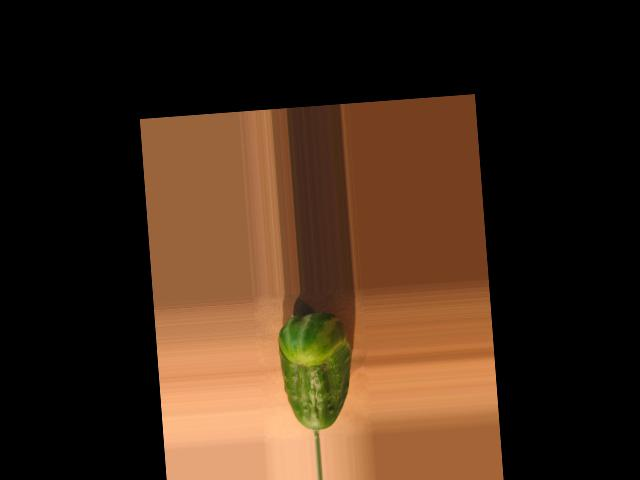cucumber: (275, 311, 355, 432)
